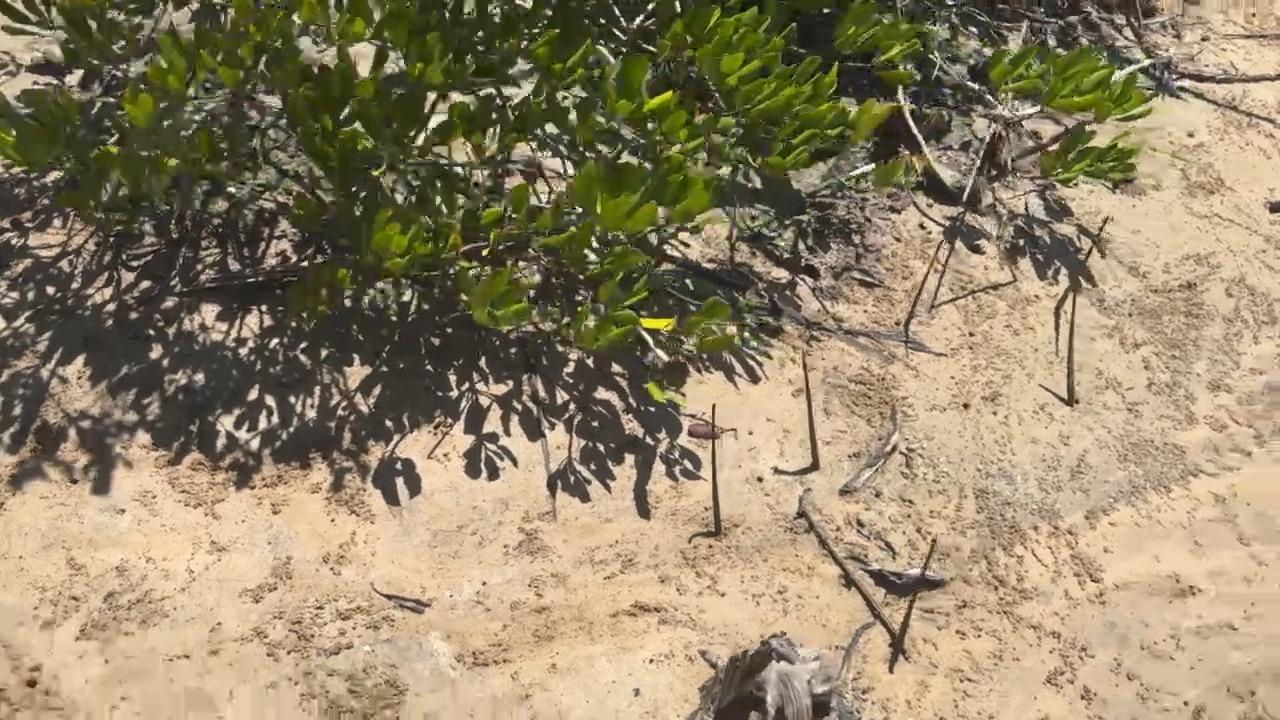Tree: (1055, 214, 1110, 312), (893, 540, 937, 653), (967, 205, 1019, 283), (904, 239, 945, 332), (802, 348, 822, 472), (710, 401, 723, 536), (1064, 290, 1078, 409)
